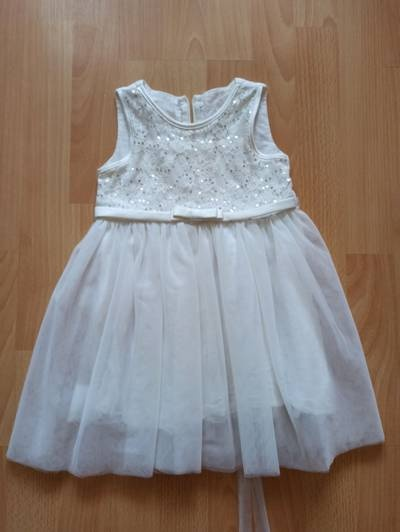Dress: (3, 37, 382, 488)
